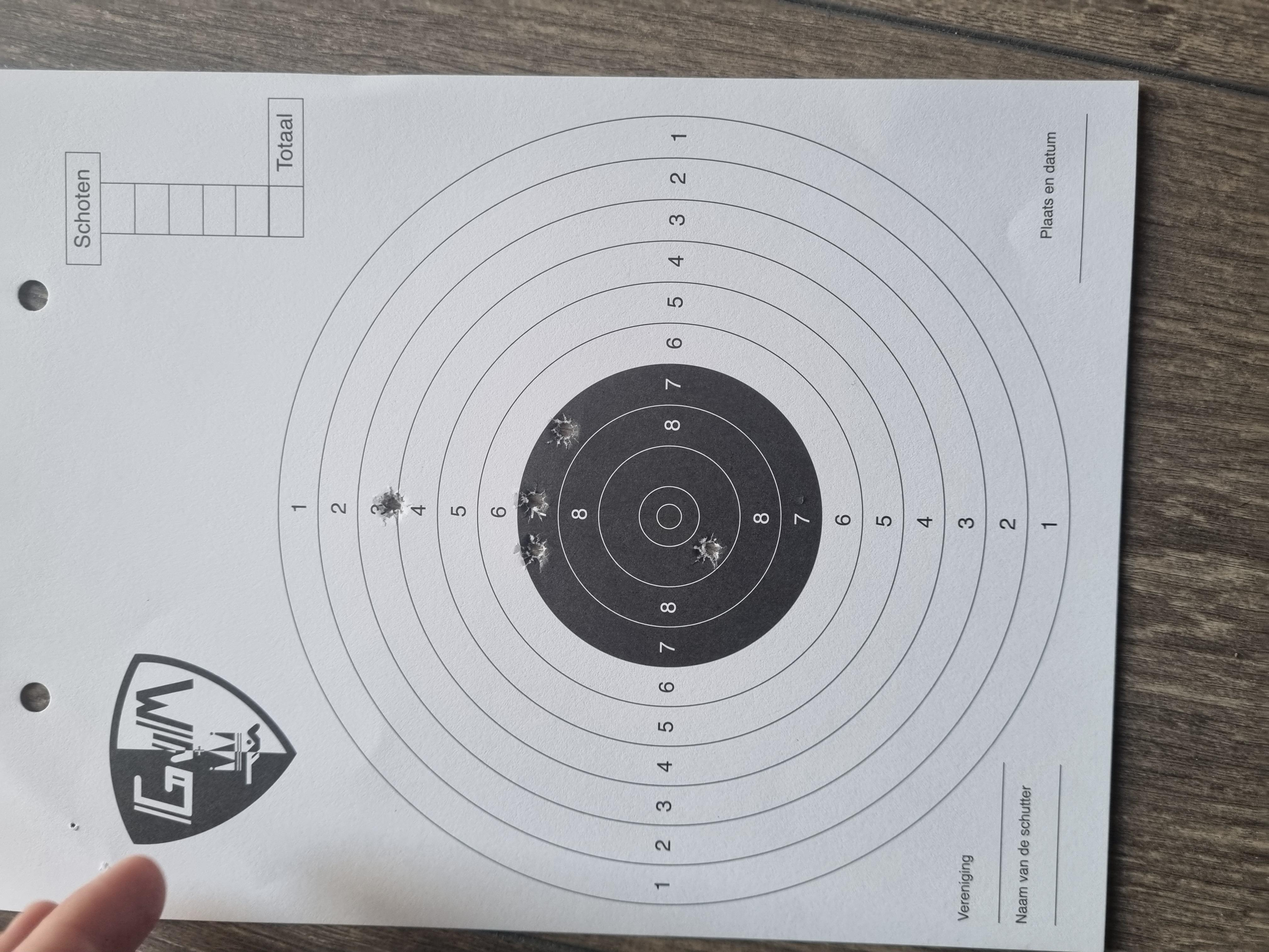hole: (669, 410, 720, 436), (505, 385, 557, 410), (572, 386, 621, 412), (578, 279, 624, 305), (511, 521, 555, 544)
